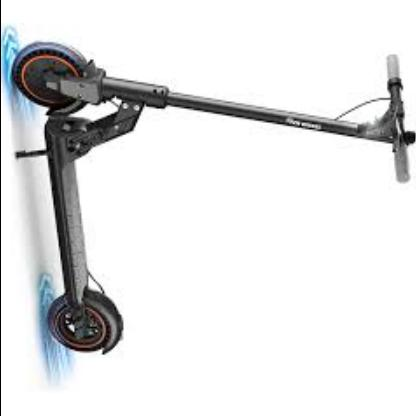bike: (11, 37, 415, 360)
